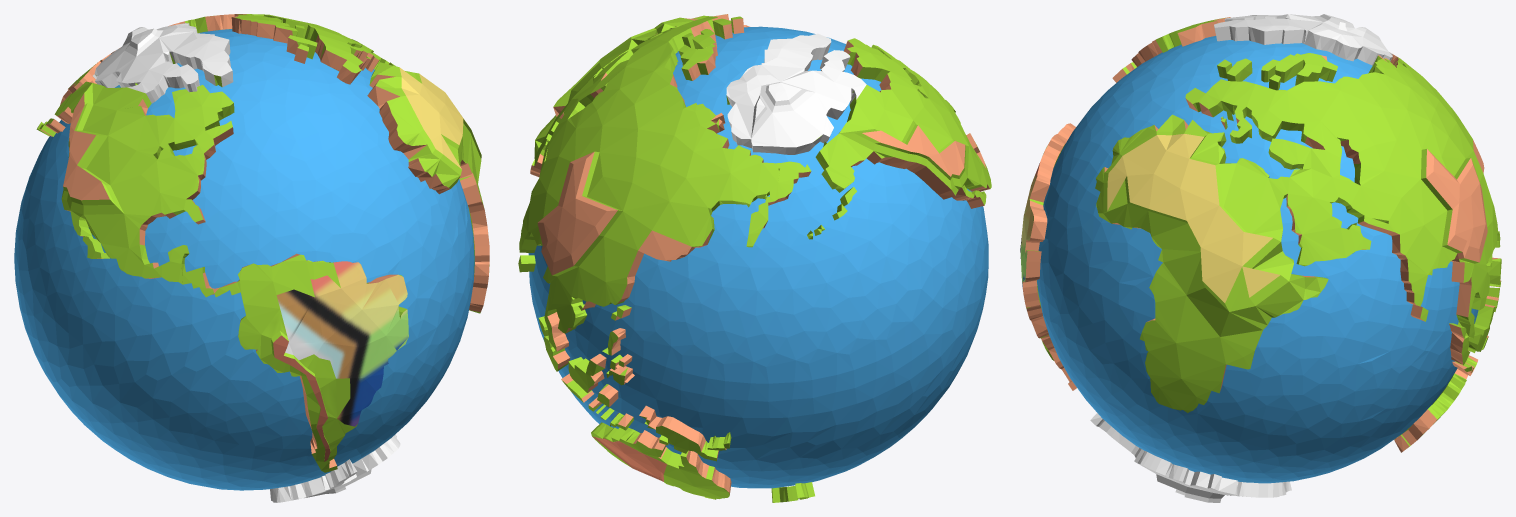
File: planet-lgbtqia.glb
3 renders of one model, left to right at view 1: azimuth 30°, elevation 25°; view 2: azimuth 150°, elevation 25°; view 3: azimuth 270°, elevation 25°, orthographic.
Parts seen in each view (by area): view 1: Object_Planet_0; view 2: Object_Planet_0; view 3: Object_Planet_0.
Part boxes in pixels (bbox=[...]): Object_Planet_0: bbox=[14, 14, 489, 502]; Object_Planet_0: bbox=[518, 14, 991, 502]; Object_Planet_0: bbox=[1020, 14, 1501, 502].
Size of the model in its own units: 2.08 by 2.13 by 2.12.
1 material, 1 textured.
